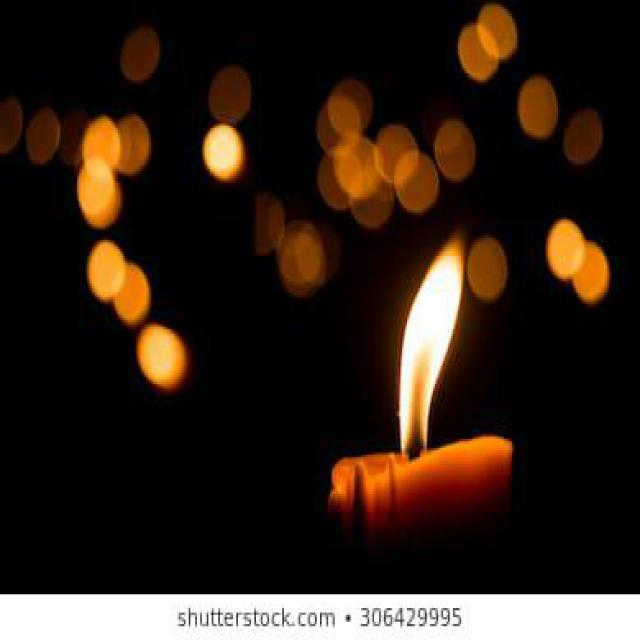Fire: (399, 232, 464, 456)
